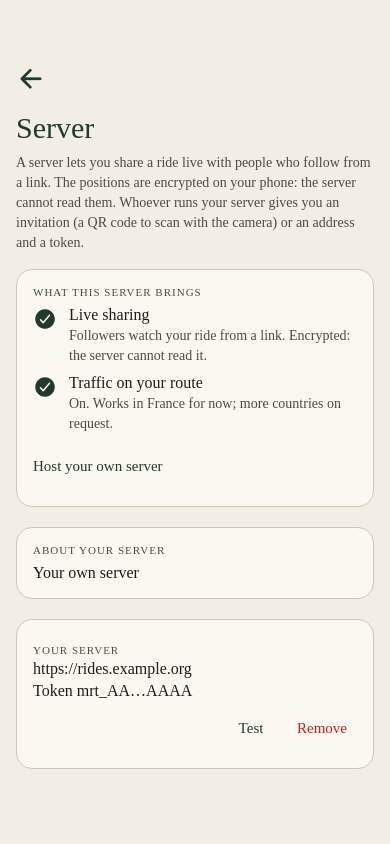
Test: with a server set there is no address and token to fill in; removing it brings them back
The width and height of the screenshot is (390, 844).
Click the button with aria-label "Remove the server" at x=322, y=728, box [287,704,357,752]
(page scrolled)
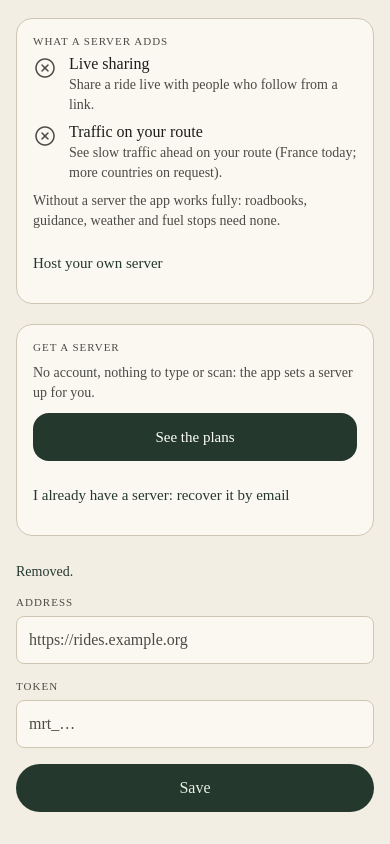
Check: the field named "Server address" is shown, box [16,616,374,664]
Check: the button with aria-label "Save the server" is shown, box [16,764,374,812]
